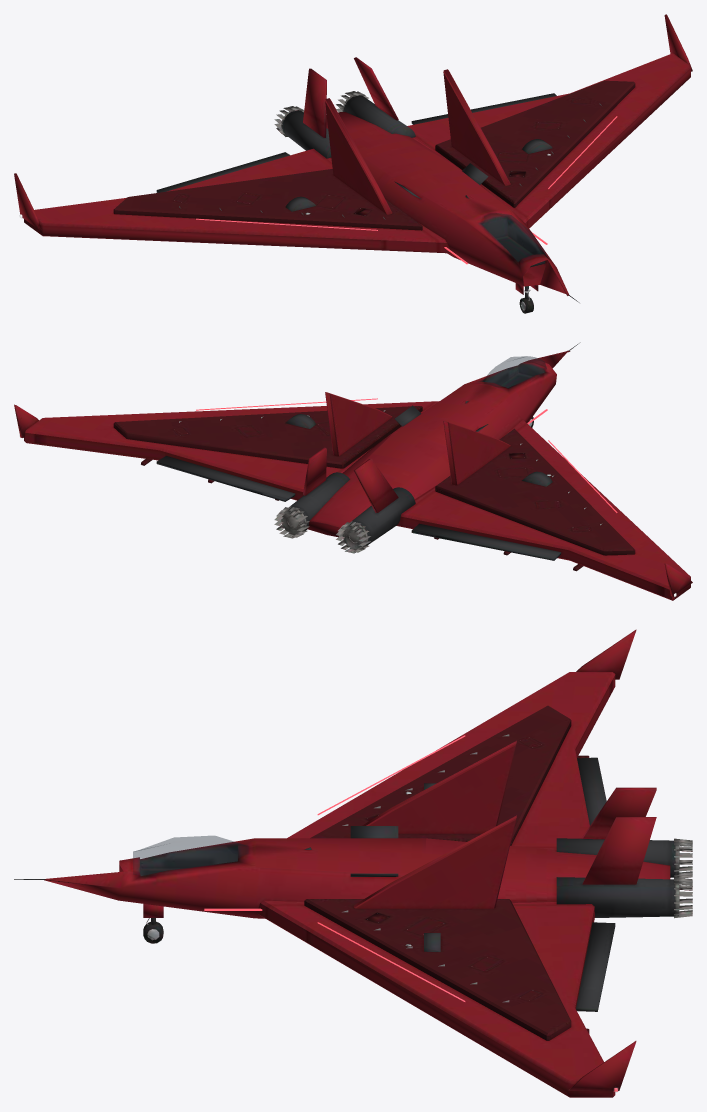
Rendered from CRA1_specter_flight_lod1.glb.
3 renders of one model, top to bottom at view 1: azimuth 30°, elevation 25°; view 2: azimuth 150°, elevation 25°; view 3: azimuth 270°, elevation 25°, orthographic. The views are drawn at different scales.
Visible parts, largest first — view 1: CRA1_specter_flight_LOD1; view 2: CRA1_specter_flight_LOD1; view 3: CRA1_specter_flight_LOD1.
Boxes of the visible parts, x1=… form: CRA1_specter_flight_LOD1: x1=14, y1=14, x2=692, y2=313; CRA1_specter_flight_LOD1: x1=14, y1=342, x2=692, y2=600; CRA1_specter_flight_LOD1: x1=14, y1=629, x2=692, y2=1097.
Size of the model in its own units: 28.9 by 5.32 by 19.96.
7 materials, 4 textured.
